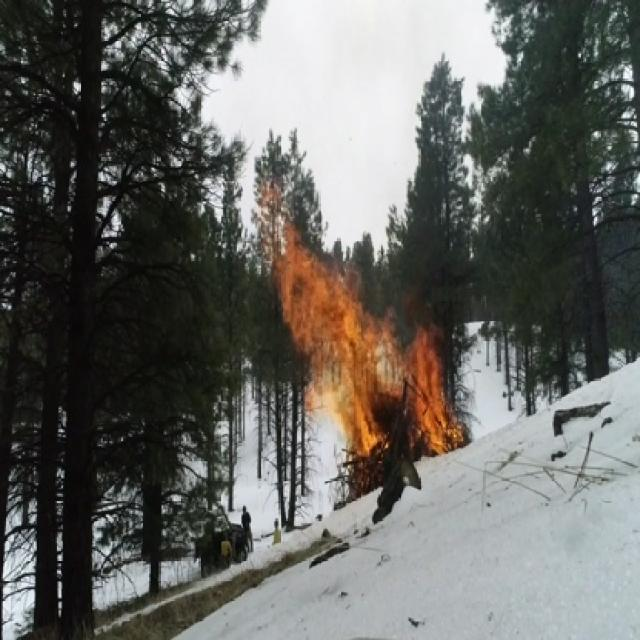Fire: (251, 171, 472, 466)
